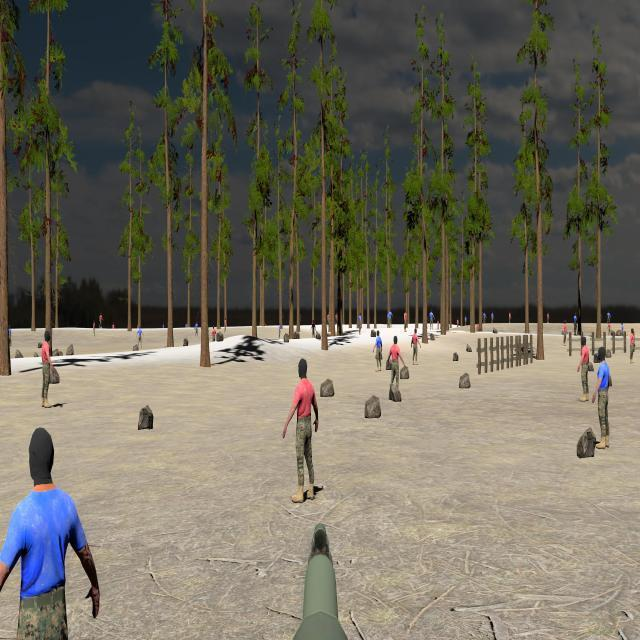Human: (1, 427, 101, 640), (282, 357, 318, 504), (593, 347, 612, 448), (387, 336, 405, 395), (577, 335, 590, 401), (41, 330, 52, 407), (373, 329, 383, 372), (411, 328, 421, 366)
